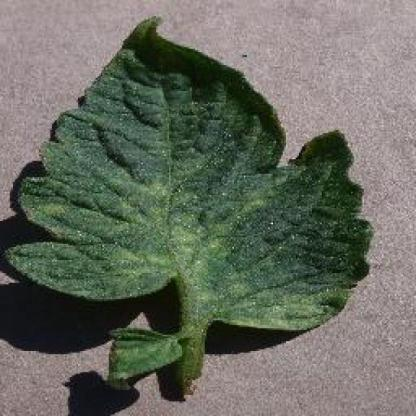Tomato_Leaf_Mold: (15, 15, 371, 324)
